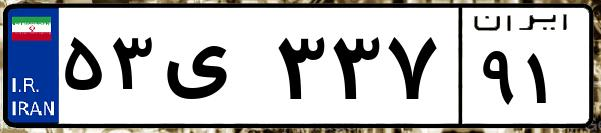1: (525, 38, 570, 115)
3: (270, 28, 330, 110), (330, 28, 385, 110), (110, 28, 158, 98)
5: (57, 26, 110, 100)
7: (385, 28, 445, 110)
9: (475, 38, 525, 113)
ی: (158, 20, 270, 120)
